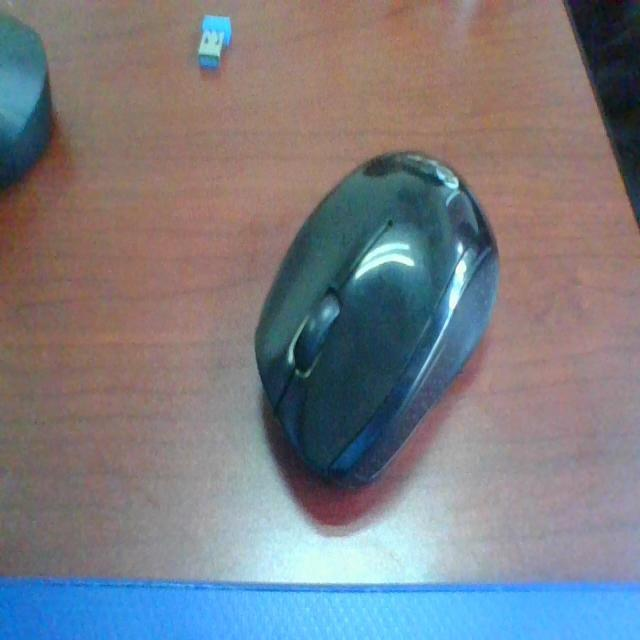mouse: (252, 128, 516, 524)
